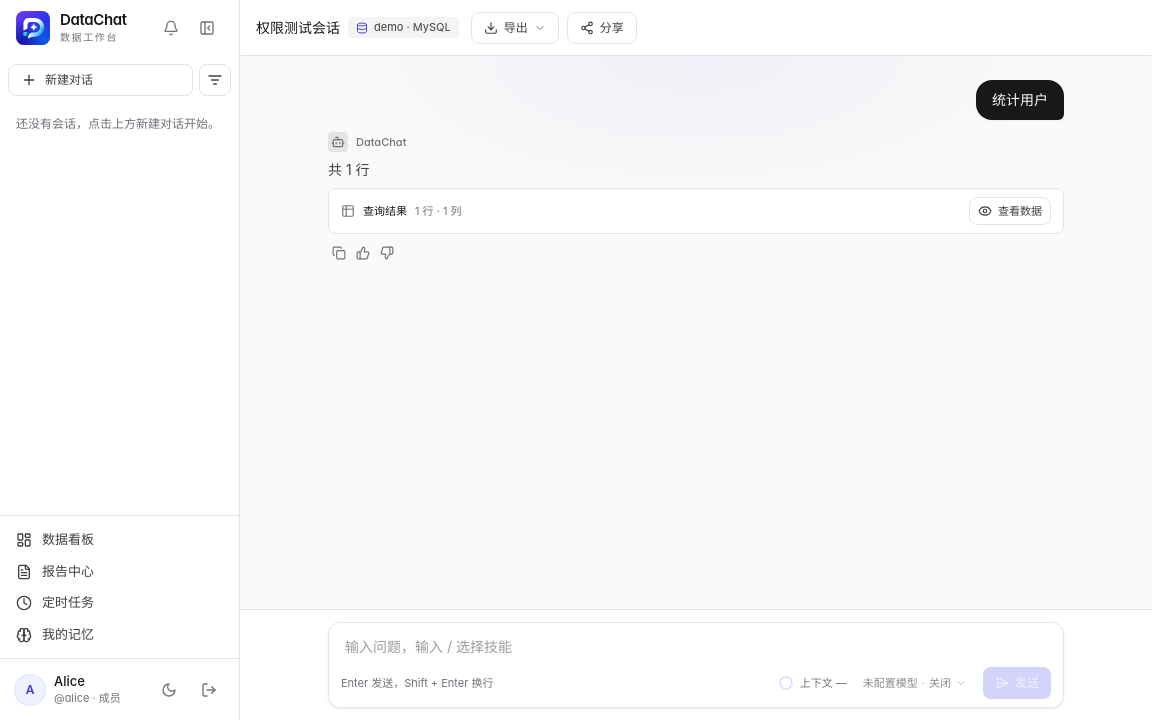
it: ChatPage permission gates › keeps skills, sharing, reports and exports available to functional roles
Expected: the text "权限测试会话" is shown, left=256, top=18, right=340, bottom=38
Expected: the button "分享" is shown, left=567, top=12, right=637, bottom=44
Type "/" into the text box labelled "输入问题".
click(696, 647); type("/")  # box left=337, top=631, right=1055, bottom=663
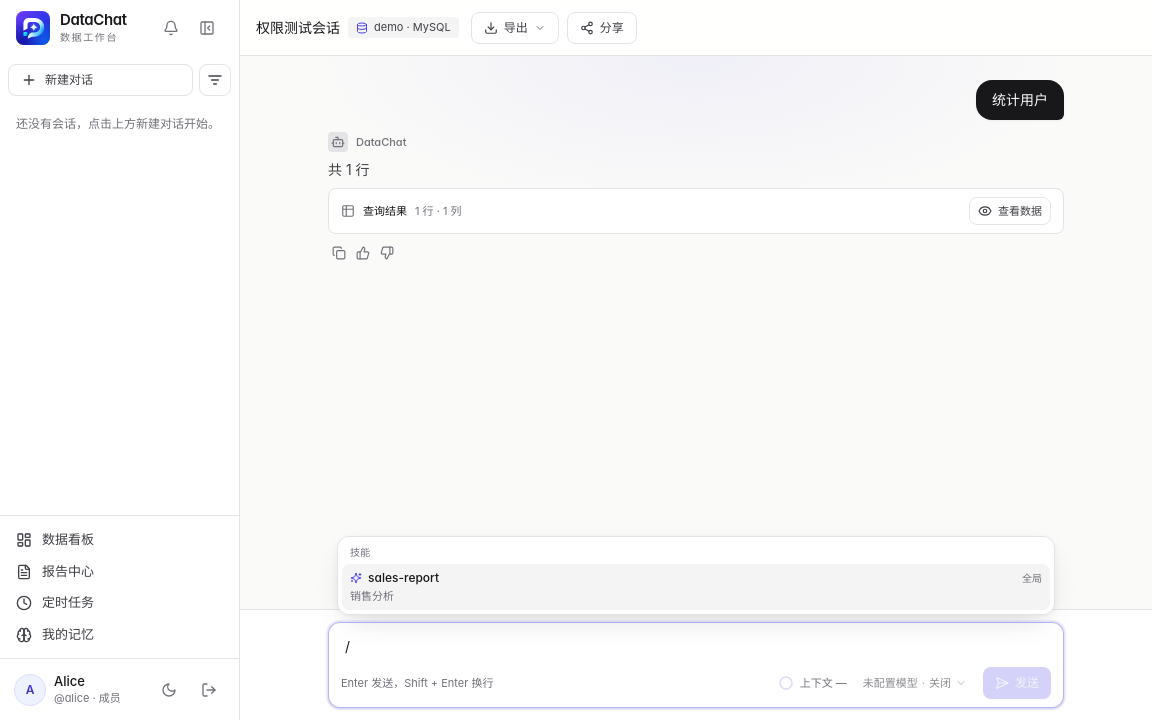
Expected: the option "sales-report 全局 销售分析" is shown
Click the option "sales-report 全局 销售分析".
click(404, 577)  # box left=342, top=564, right=1050, bottom=610
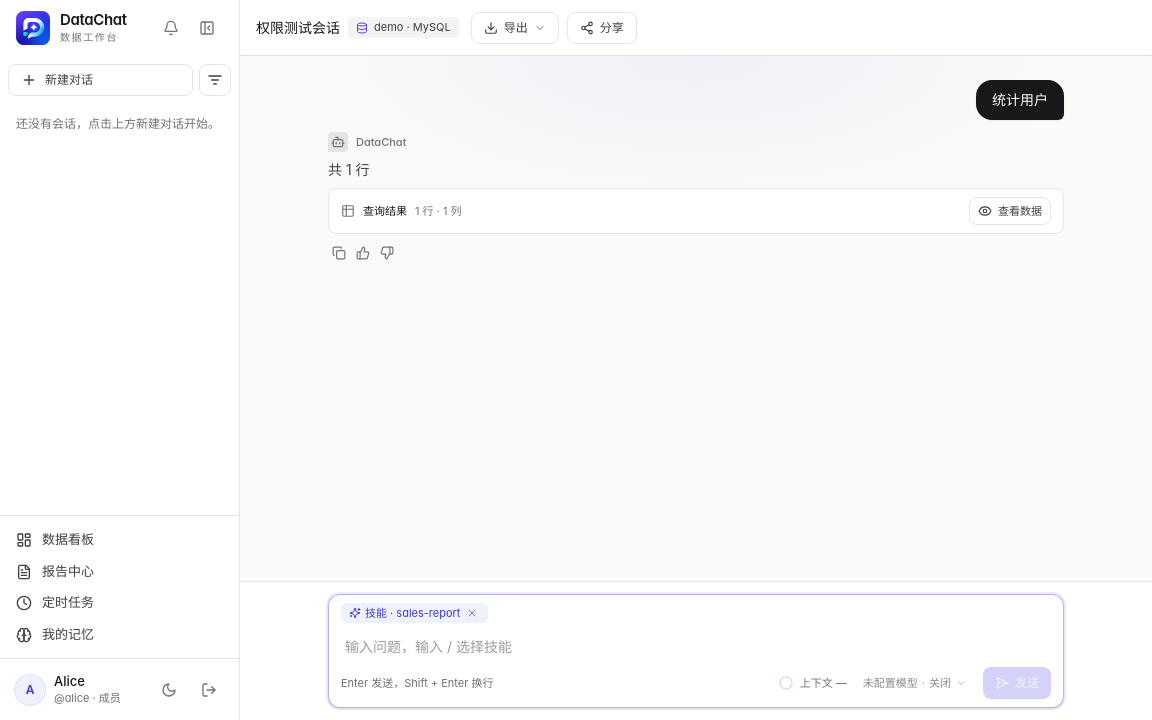
Type "本月销售" into the text box labelled "输入问题".
click(696, 647); type("本月销售")  # box left=337, top=631, right=1055, bottom=663
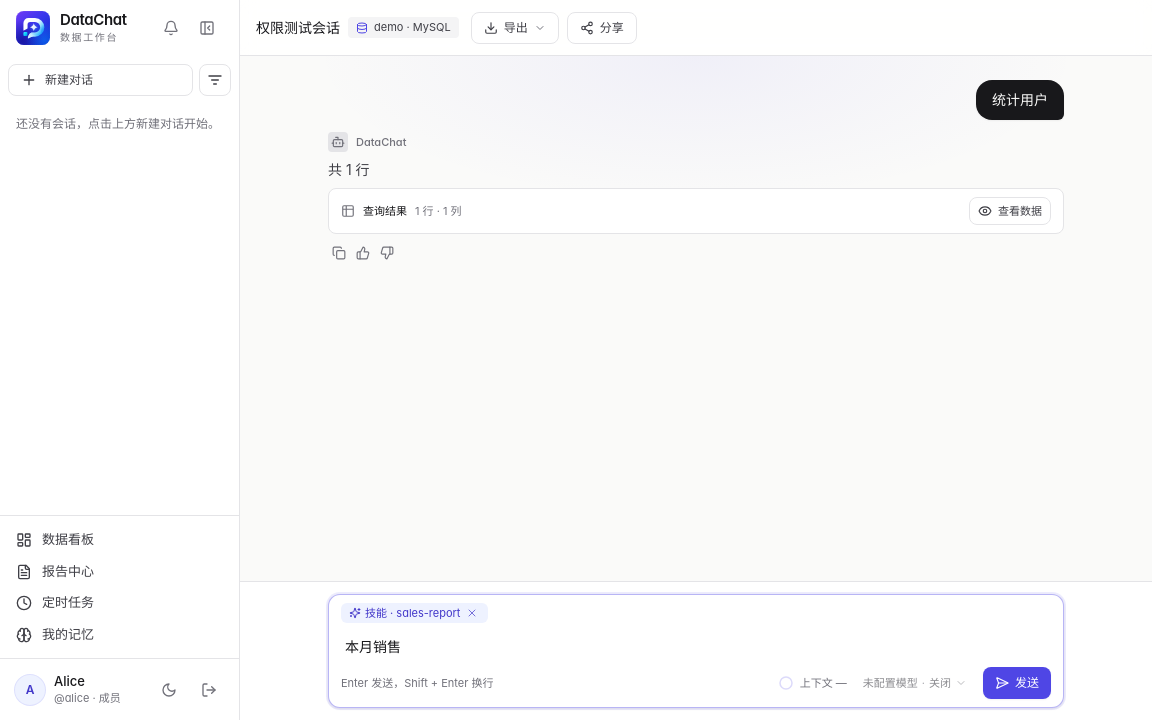
Click the button "发送".
click(1017, 683)  # box left=983, top=667, right=1051, bottom=699
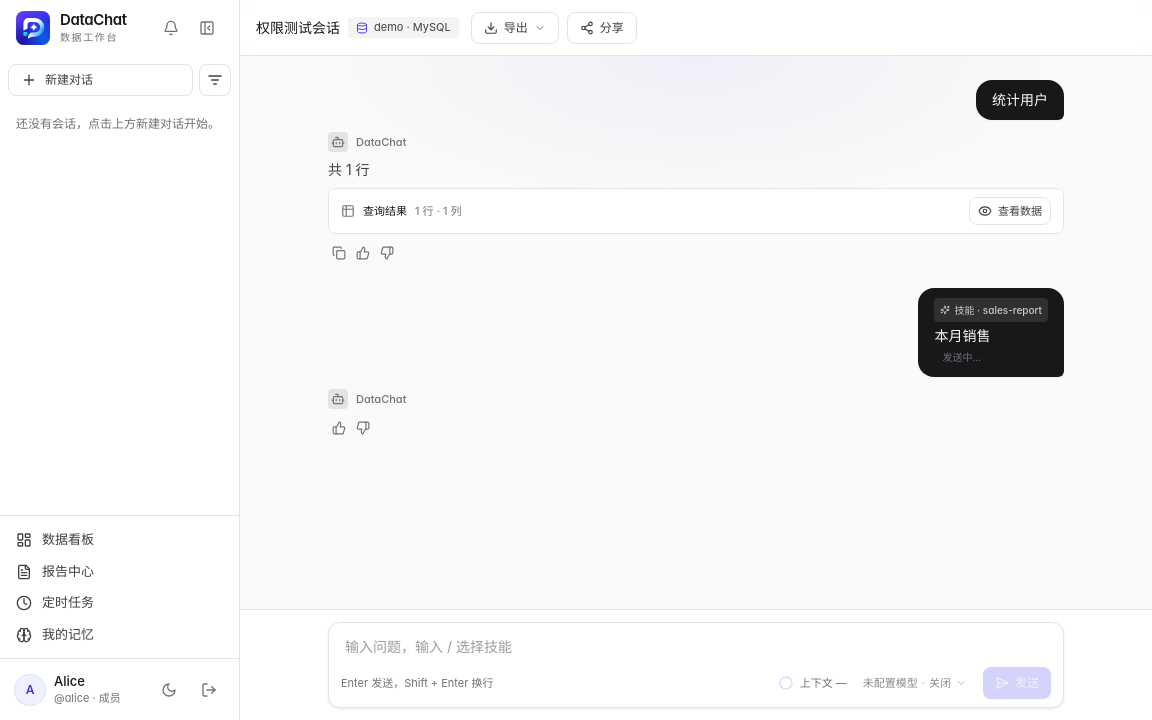
Click the button "查看数据".
click(1010, 211)  # box left=969, top=197, right=1051, bottom=225
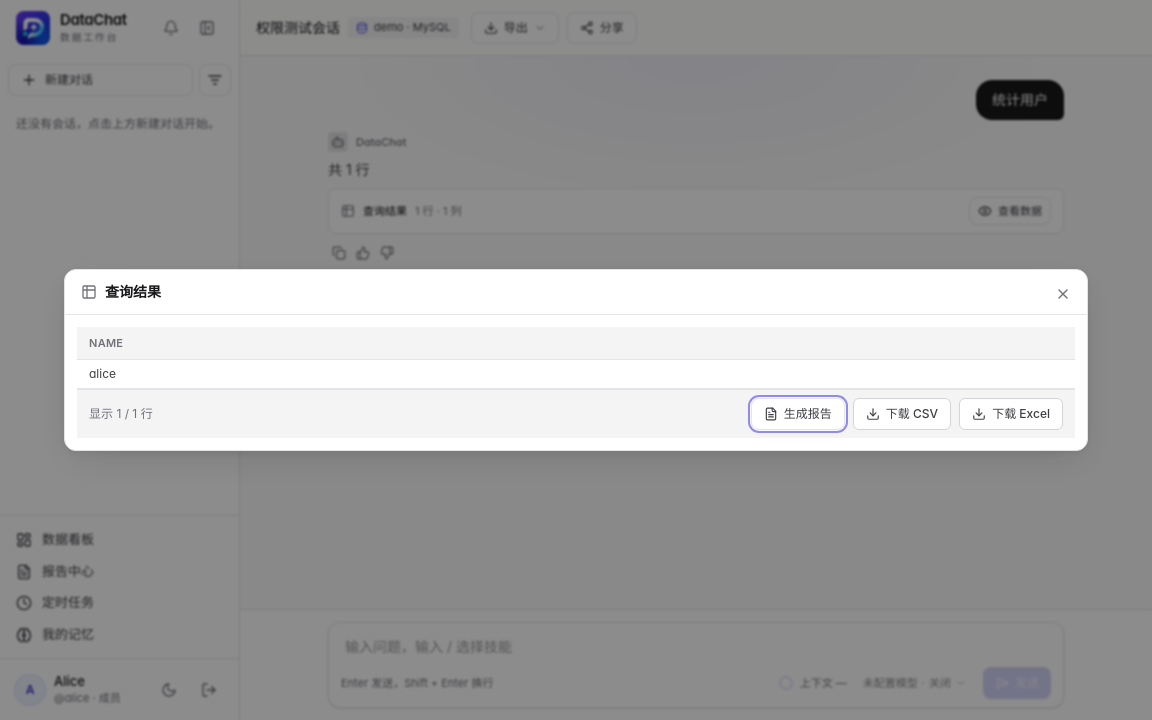
Expected: the button "生成报告" is shown, left=751, top=398, right=845, bottom=430
